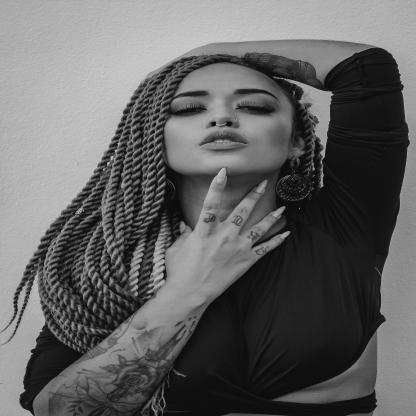Eye: (236, 101, 276, 115), (168, 104, 206, 116)
Mouth: (200, 129, 248, 150)
Nose: (205, 106, 239, 128)
